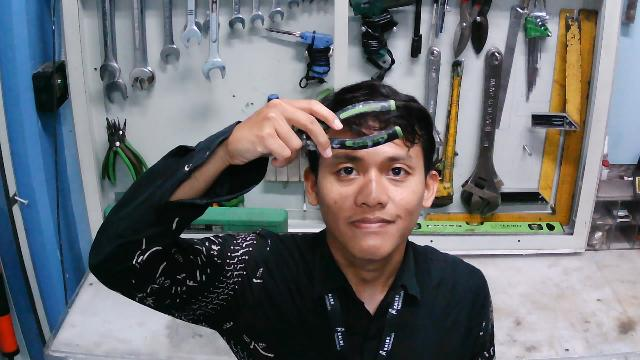tang_kombinasi: (274, 100, 404, 151)
